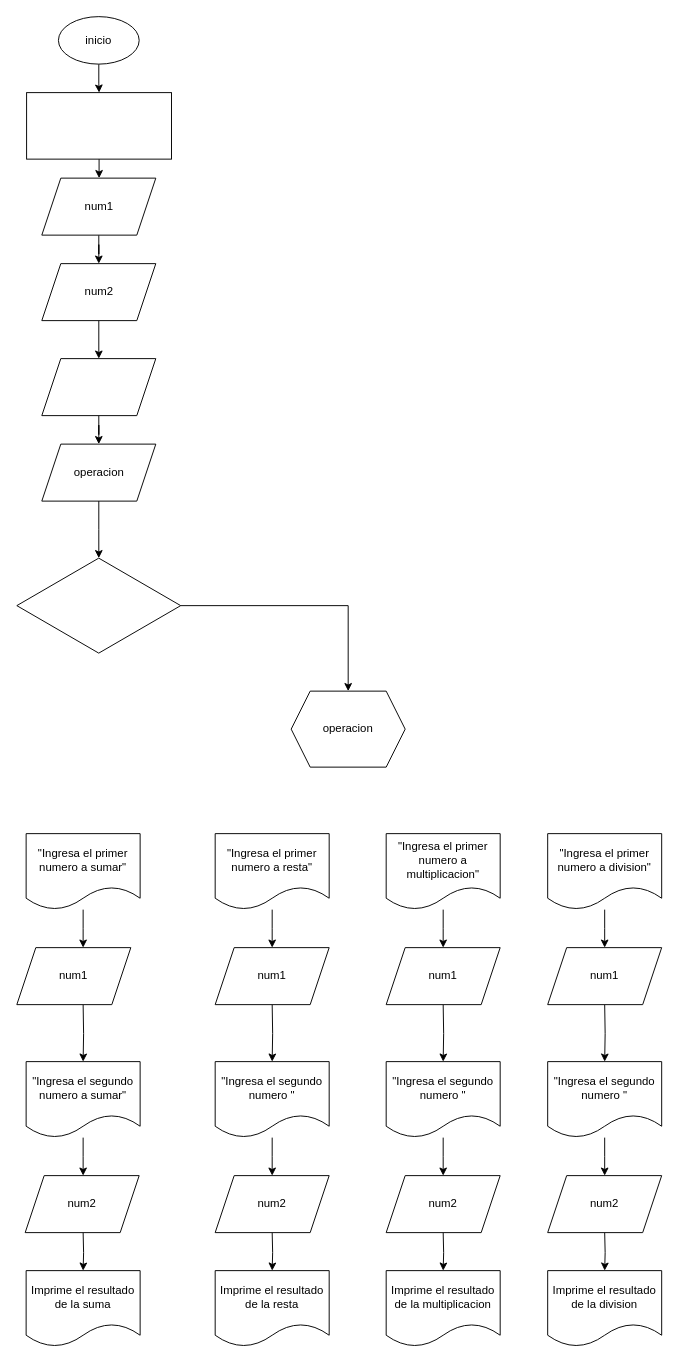
The diagram is 678 pixels wide and 1363 high, and some of its shapes have lost their labels. Each missing label, with the centre of its shape:
"num1(froat),num2(froat) res(float),operacion(int)" goes at point 98,125.
"operacion ==5" goes at point 98,605.
"res" goes at point 98,387.
